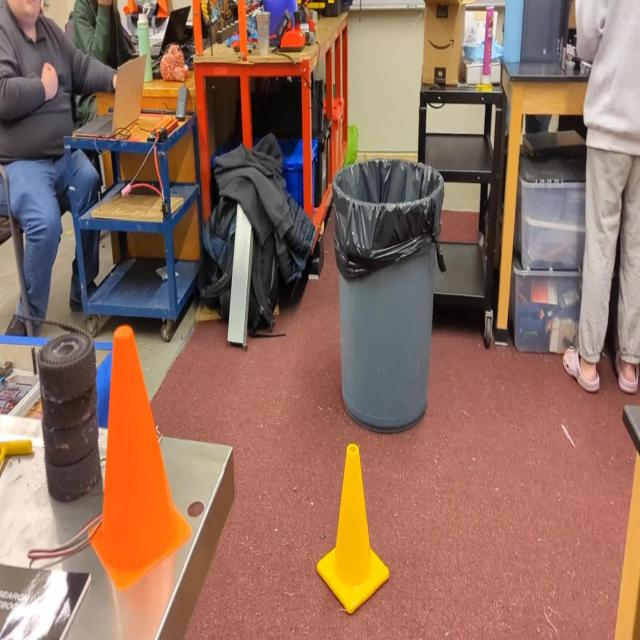frc_cone: (314, 443, 392, 616)
